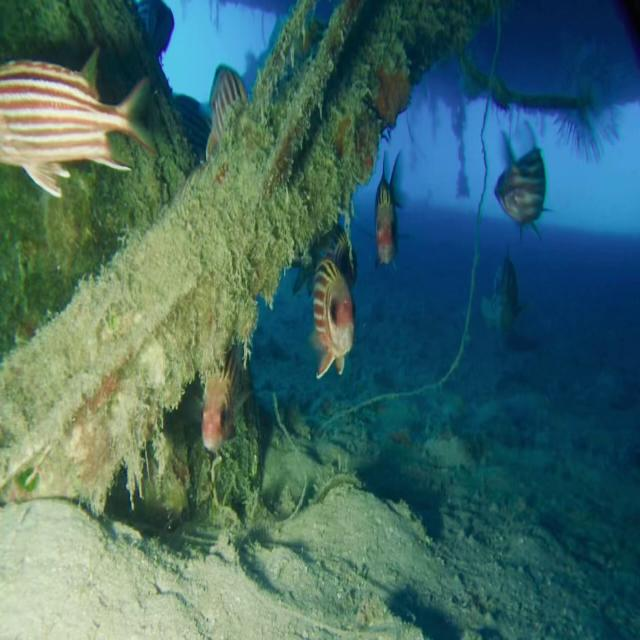Asker Baligi: (0, 49, 158, 200), (302, 253, 377, 362)
